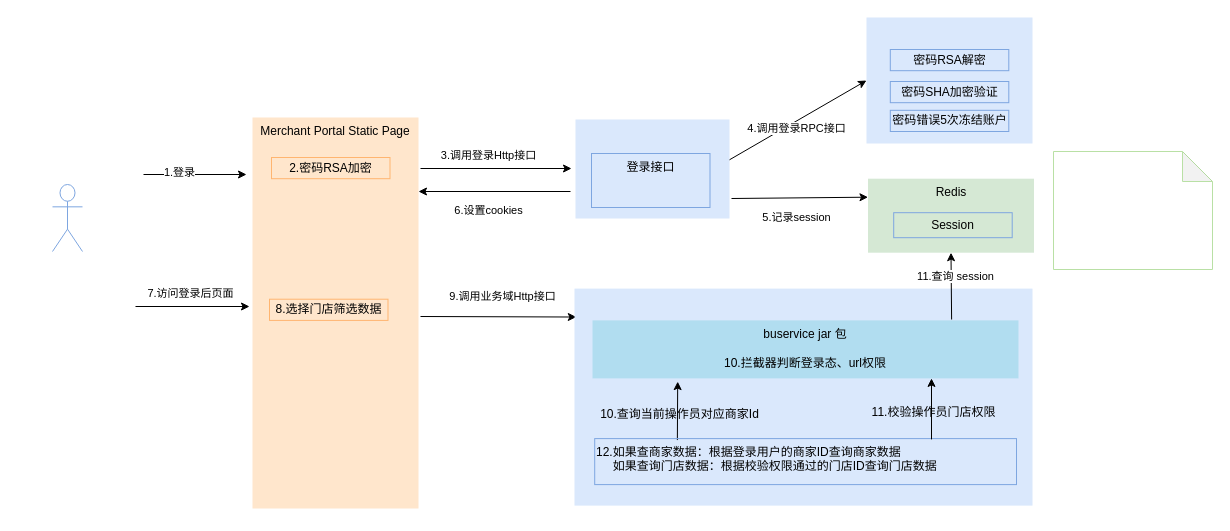
The diagram is 1230 pixels wide and 531 high, and some of its shapes have lost their labels. The shapes that lost their labels are listed below. From the top down, each one's box as (x1, y1, x2, y2) in pixels, then its label:
(866, 17, 1032, 143): apbizprod
(575, 119, 729, 218): ifccustmng
(52, 184, 82, 252): Merchant Operator
(1052, 150, 1212, 270): Session 包含内容： 1.登录operator账号信息 2.账号所属商家ID 3.账号功能权限列表 4.账号门店权限列表 5.账号商家权限
(574, 288, 1032, 505): mng application
